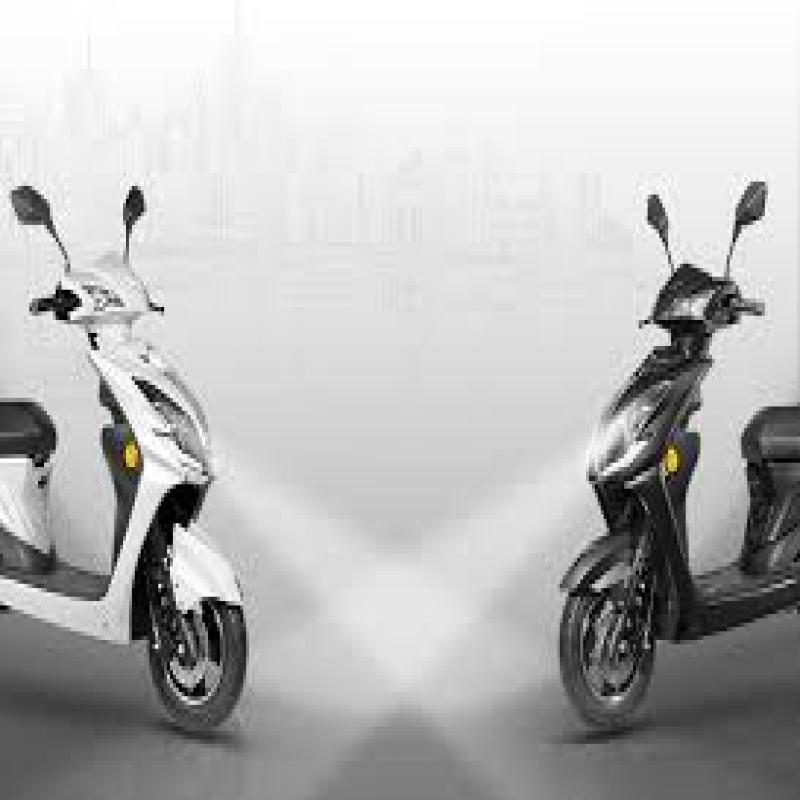bike: (2, 120, 261, 753), (571, 134, 800, 771)
